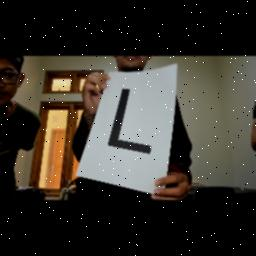l: (106, 86, 154, 158)
